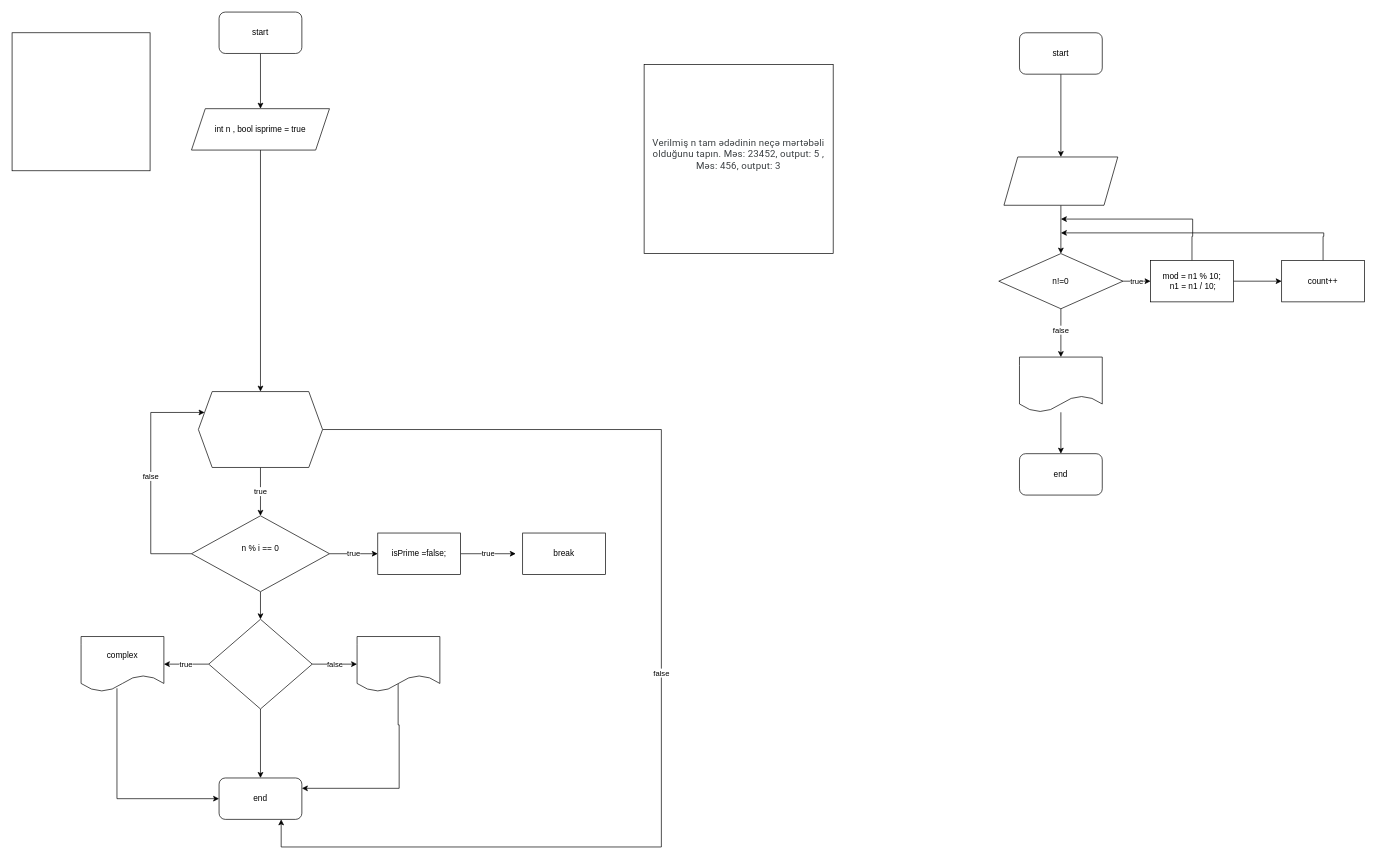
The diagram is 1377 pixels wide and 865 high, and some of its shapes have lost their labels. Each missing label, with the centre of its shape:
count: pixel 1060 384
for (int i = 2; i <= math.sqrt(n); i++): pixel 260 429
int n1; int mod =0; int count = 0;: pixel 1060 180
isprime?: pixel 260 664
simple: pixel 398 664
Verilmiş n tam ədədinin sadə və ya mürəkkəb ədəd olduğunu tapan alqoritm.: pixel 80 101
